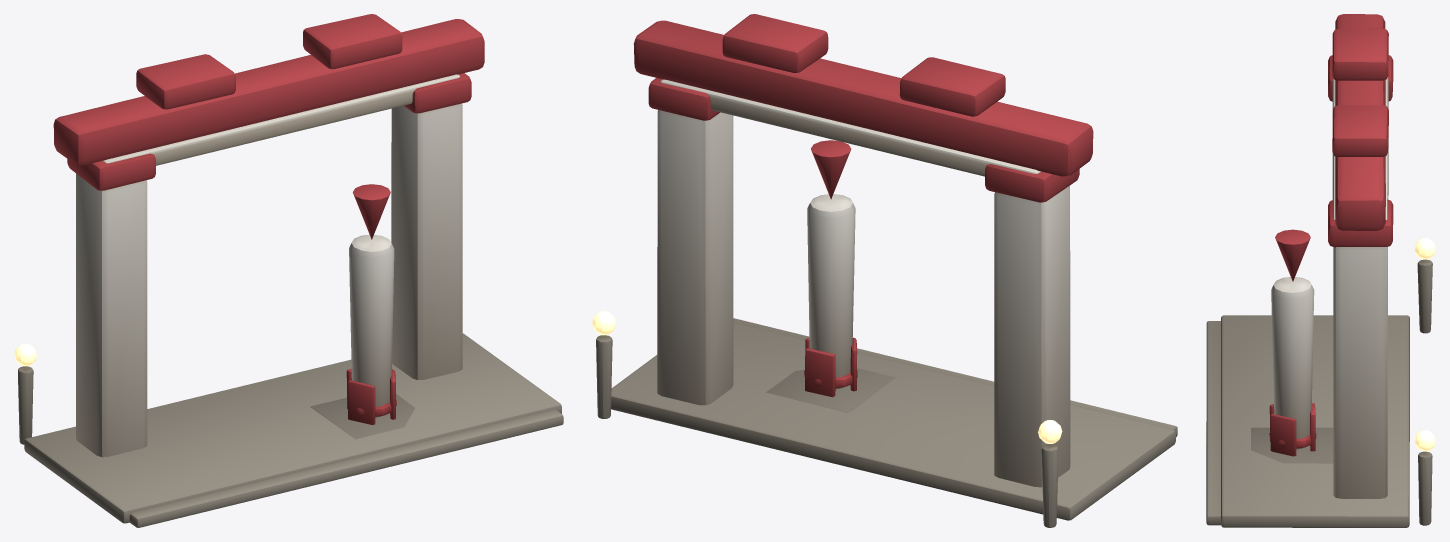
3 views of the same model, side by side, from view 1: azimuth 30°, elevation 25°; view 2: azimuth 150°, elevation 25°; view 3: azimuth 270°, elevation 25° (orthographic). The views are drawn at different scales.
Visible parts, largest first — view 1: gate_7b305a90; view 2: gate_7b305a90; view 3: gate_7b305a90.
Boxes of the visible parts, x1,y1,x2,y2 form: gate_7b305a90: (14,14,563,527); gate_7b305a90: (592,14,1177,527); gate_7b305a90: (1206,14,1435,527).
Bounding box in the file's own units: 5.31 × 4.28 × 2.55.
